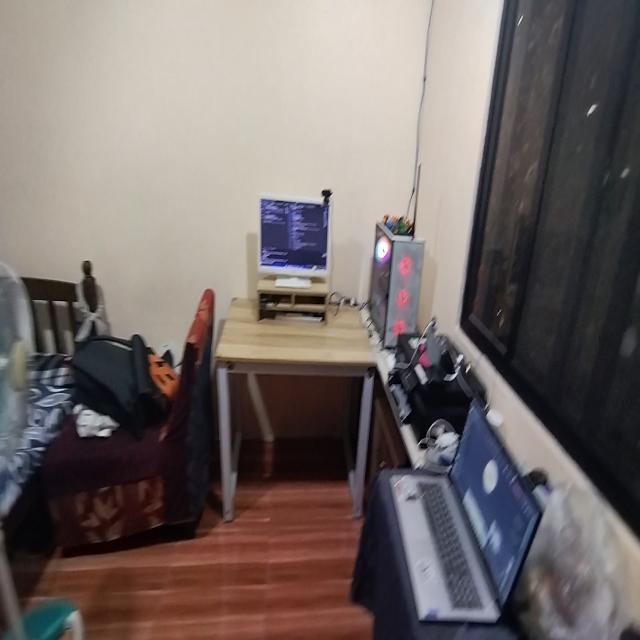table: (216, 288, 377, 538)
